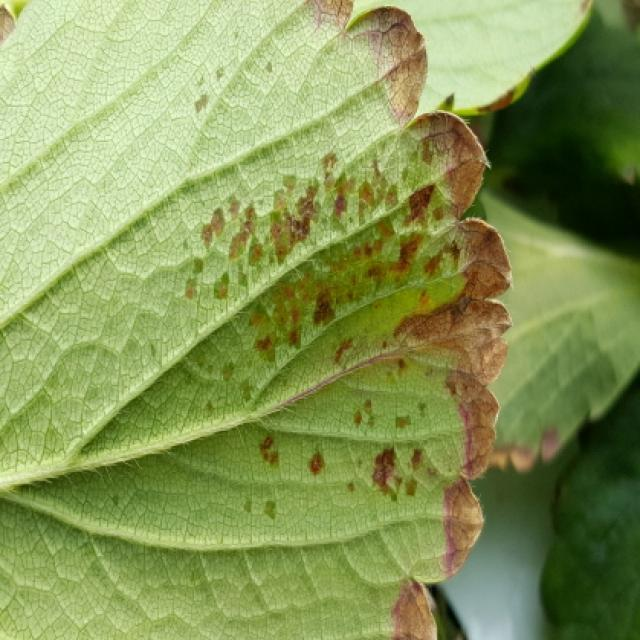Angular Leafspot: (137, 20, 498, 525)
